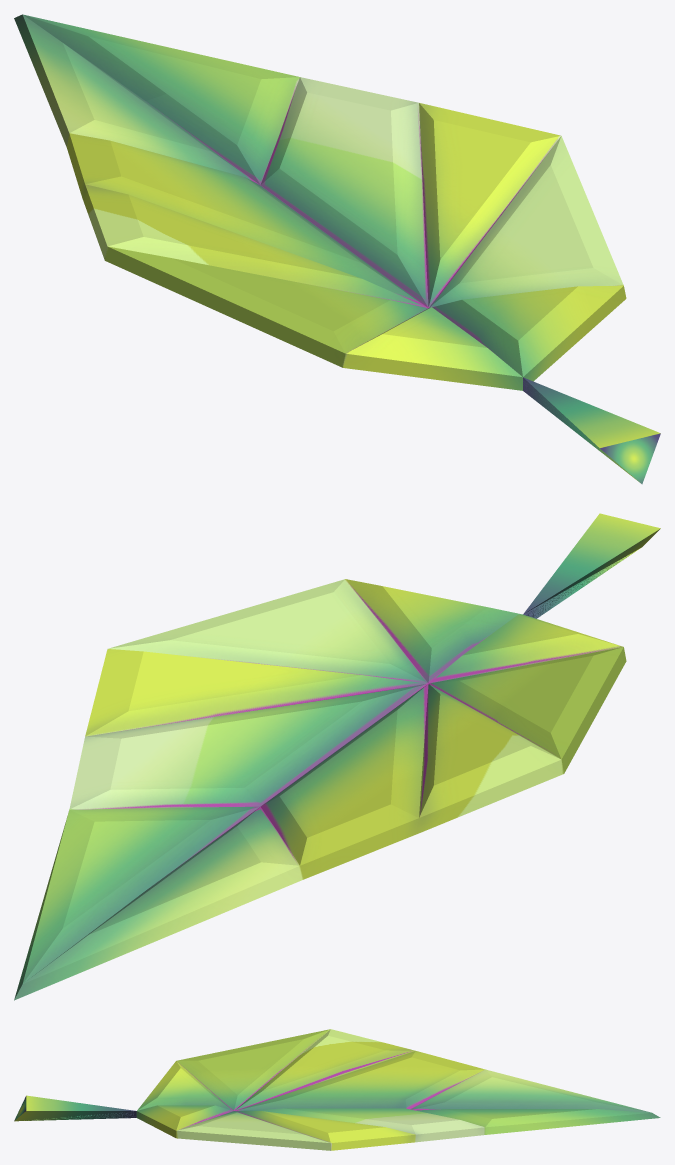
File: Leaf.fbx
The picture shows the model from 3 angles, top to bottom: view 1: azimuth 30°, elevation 25°; view 2: azimuth 150°, elevation 25°; view 3: azimuth 270°, elevation 25°; orthographic projection. The views are drawn at different scales.
Visible parts, largest first — view 1: Leaf; view 2: Leaf; view 3: Leaf.
Part boxes in pixels (left/top/right/bottom): Leaf: left=14, top=14, right=660, bottom=484; Leaf: left=14, top=513, right=660, bottom=1000; Leaf: left=14, top=1029, right=660, bottom=1150.
Bounding box in the file's own units: 3.05 × 0.4557 × 7.23.
